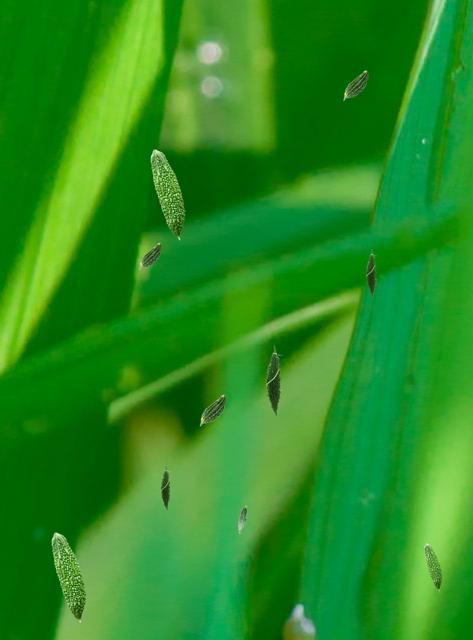ampalaya: (150, 149, 186, 240), (51, 532, 87, 623), (264, 345, 283, 416), (424, 543, 443, 591), (199, 394, 226, 426), (342, 70, 368, 100), (138, 242, 162, 270), (365, 248, 377, 297), (159, 465, 171, 510), (237, 505, 247, 534)
